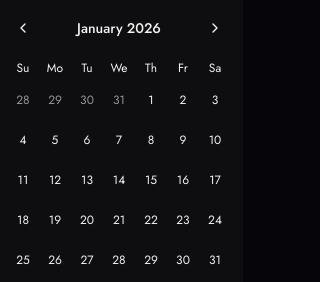
Test: Calendar › navigates to the next month
Click the button named "next month" at [215, 28], box [199,12,231,44]
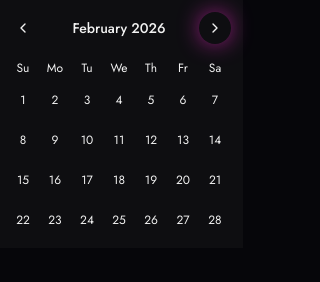
Check: the text "February 2026" is shown, box [72,18,166,38]
